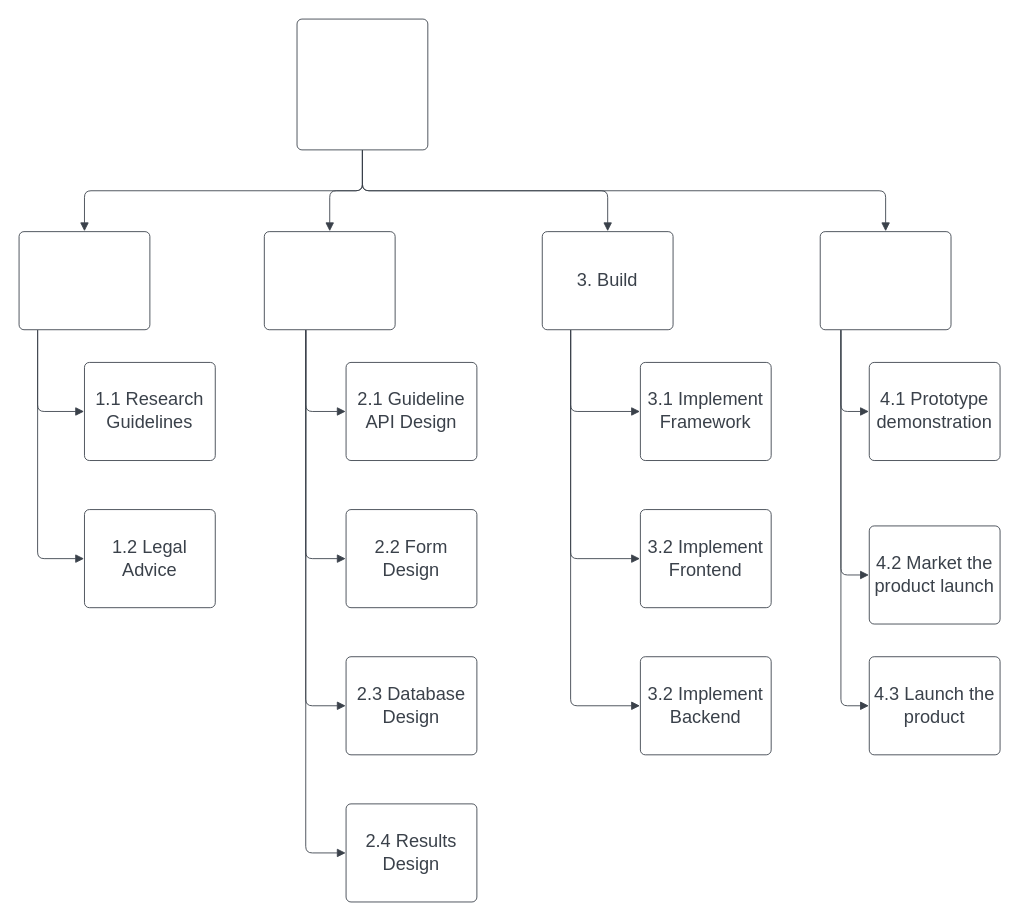
This 1019x921 diagram has some shape labels left out. The centre of each missing label's shape, as x and y in pixels:
"2. Design" belongs at point (329, 280).
"4. Deployment" belongs at point (885, 280).
"Research" belongs at point (84, 280).
"Webpage" belongs at point (362, 84).
